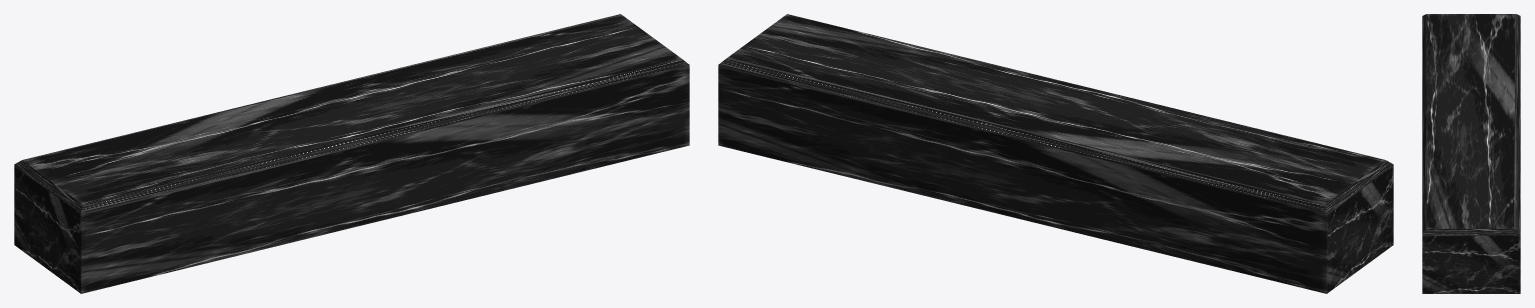
Rendered from f02-black-marble-raised-border-showcase-south.glb.
3 views of the same model, side by side, from view 1: azimuth 30°, elevation 25°; view 2: azimuth 150°, elevation 25°; view 3: azimuth 270°, elevation 25° (orthographic). The views are drawn at different scales.
Parts seen in each view (by area): view 1: f02-black-marble-raised-border-showcase-south; view 2: f02-black-marble-raised-border-showcase-south; view 3: f02-black-marble-raised-border-showcase-south.
Part boxes in pixels (x1,y1,x2,y2): f02-black-marble-raised-border-showcase-south: (14, 14, 689, 293); f02-black-marble-raised-border-showcase-south: (718, 14, 1393, 293); f02-black-marble-raised-border-showcase-south: (1422, 14, 1520, 293).
Size of the model in its own units: 1 by 0.135 by 0.19.
Materials: 1 (1 with a texture image).
